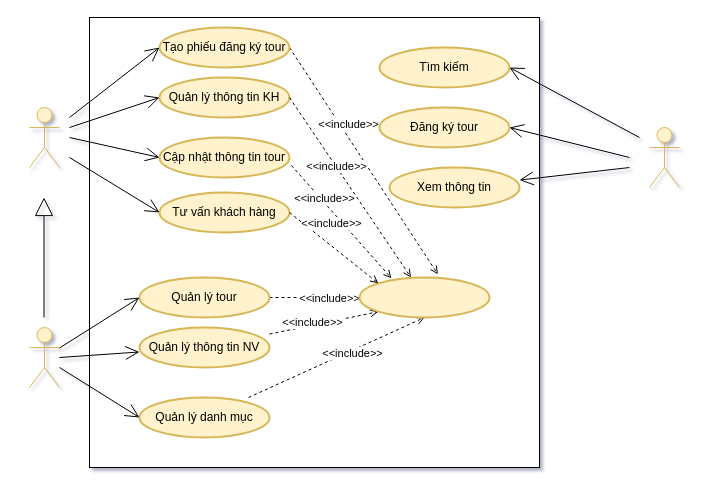
This 719x491 diagram has some shape labels left out. Here are the shapes that lost their labels. From the top down, the box of each, then its label:
(28, 106, 60, 168): Nhân viên
(648, 126, 680, 188): Khách hàng
(358, 276, 490, 318): Đăng nhập
(28, 326, 60, 388): Admin
